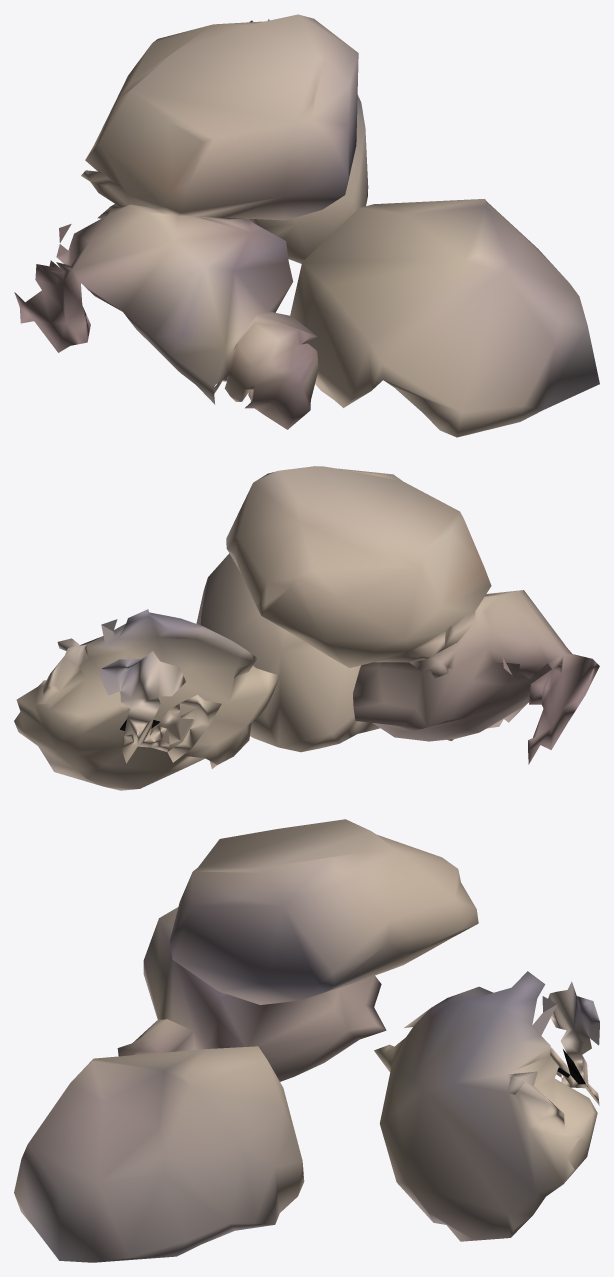
The model's file is boulder_cluster_hunyuan.glb.
3 views of the same model, one above another, from view 1: azimuth 30°, elevation 25°; view 2: azimuth 150°, elevation 25°; view 3: azimuth 270°, elevation 25° (orthographic). The views are drawn at different scales.
Parts seen in each view (by area): view 1: geometry_0; view 2: geometry_0; view 3: geometry_0.
Part boxes in pixels (<box>): geometry_0: <box>14,14,599,437</box>; geometry_0: <box>14,466,599,790</box>; geometry_0: <box>14,819,599,1262</box>.
Bounding box in the file's own units: 1.77 × 1.22 × 1.95.
